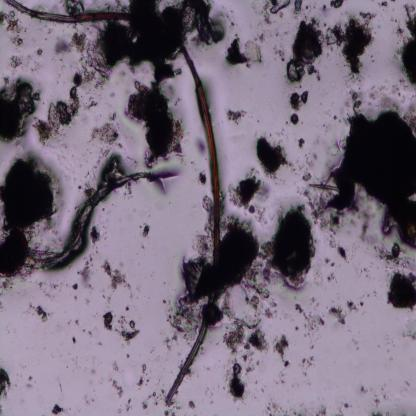Background material: (312, 90, 416, 274), (168, 205, 258, 328), (0, 150, 58, 283), (104, 0, 189, 84), (126, 78, 186, 168), (262, 204, 319, 293), (221, 216, 268, 312), (35, 70, 86, 140), (330, 9, 379, 76), (284, 16, 328, 85), (0, 76, 36, 143), (71, 27, 109, 84), (220, 315, 270, 357), (254, 132, 290, 180), (230, 172, 267, 217), (189, 1, 225, 45), (398, 3, 416, 88), (225, 35, 264, 68), (89, 117, 122, 150), (385, 274, 416, 308), (293, 301, 325, 332), (0, 5, 24, 45), (74, 250, 95, 294), (99, 262, 129, 292), (266, 402, 328, 416), (325, 299, 358, 323), (342, 381, 376, 402), (230, 358, 246, 402), (201, 300, 225, 327), (118, 316, 141, 341), (328, 233, 349, 260), (275, 333, 290, 369), (299, 166, 313, 204), (224, 106, 247, 126), (139, 392, 163, 410), (288, 88, 308, 109), (402, 313, 416, 342), (64, 0, 87, 17), (34, 302, 50, 326), (102, 307, 116, 332), (0, 366, 12, 395), (7, 51, 25, 70), (268, 0, 290, 15), (54, 38, 72, 56), (350, 90, 362, 115), (194, 135, 208, 156), (298, 354, 314, 372), (137, 364, 148, 387), (111, 380, 123, 400), (90, 226, 101, 246), (293, 0, 305, 14), (329, 0, 344, 11), (198, 169, 208, 185), (141, 222, 150, 238), (188, 399, 201, 410), (290, 112, 300, 126), (52, 404, 65, 414), (298, 138, 306, 149), (36, 47, 43, 58), (73, 284, 80, 293)
Cellulose filter fibre: (25, 170, 167, 273)
Microfibre: (5, 0, 224, 404)
